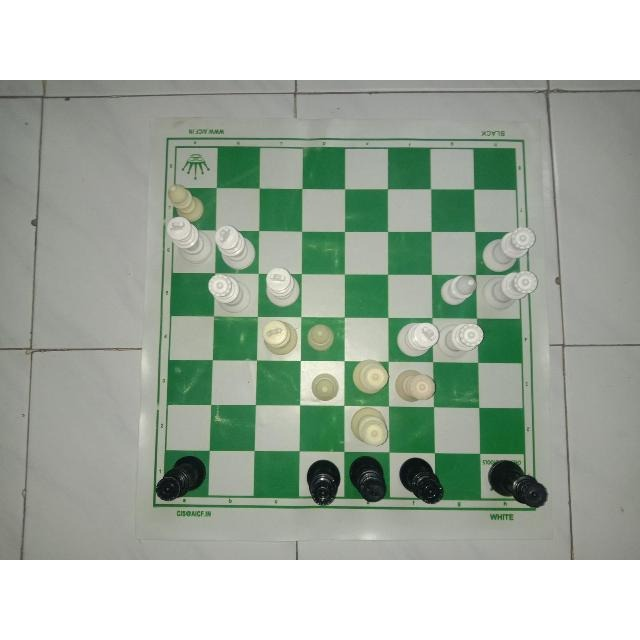black-king: (348, 456, 387, 503)
black-queen: (483, 458, 553, 512), (154, 454, 208, 504), (399, 453, 445, 507), (302, 457, 343, 507)
white-bishop: (166, 183, 210, 219), (301, 320, 341, 352), (433, 273, 477, 301), (307, 369, 341, 401)
white-king: (168, 216, 212, 266), (213, 224, 257, 270), (394, 318, 440, 358), (258, 317, 298, 359), (264, 265, 302, 309)
white-queen: (480, 267, 540, 310), (481, 226, 537, 268), (206, 273, 253, 317), (348, 405, 388, 450), (438, 321, 485, 359), (393, 369, 437, 405), (351, 357, 389, 397)
